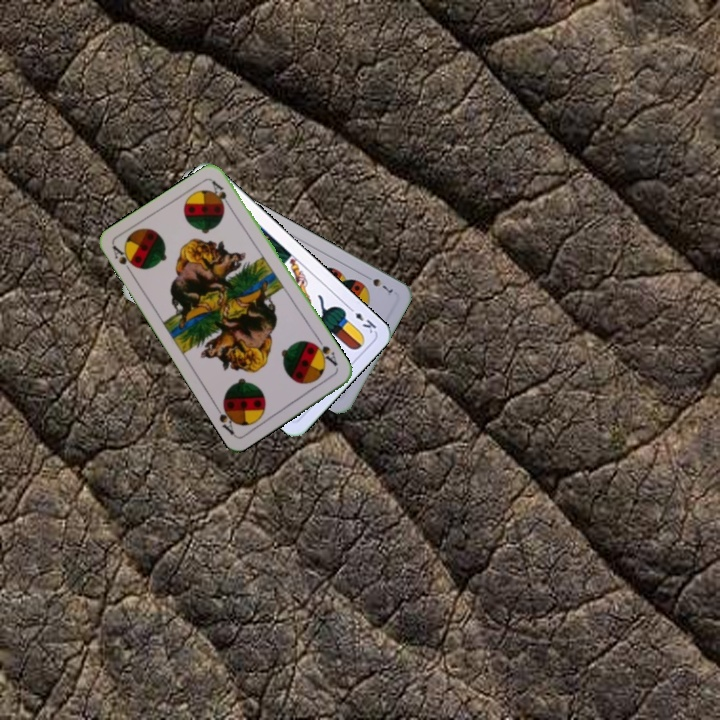EK: (344, 302, 379, 336)
S7: (360, 271, 396, 297)
SA: (108, 241, 140, 278), (309, 335, 340, 369)
